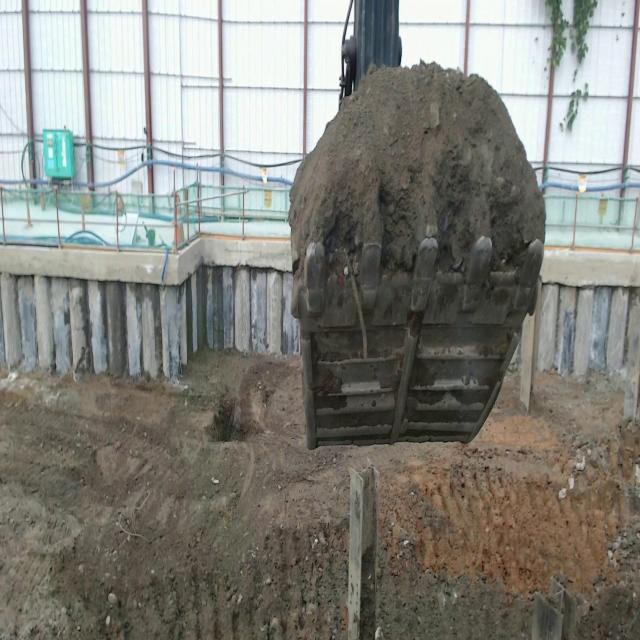white-sand: (0, 351, 640, 639), (288, 62, 545, 273)
